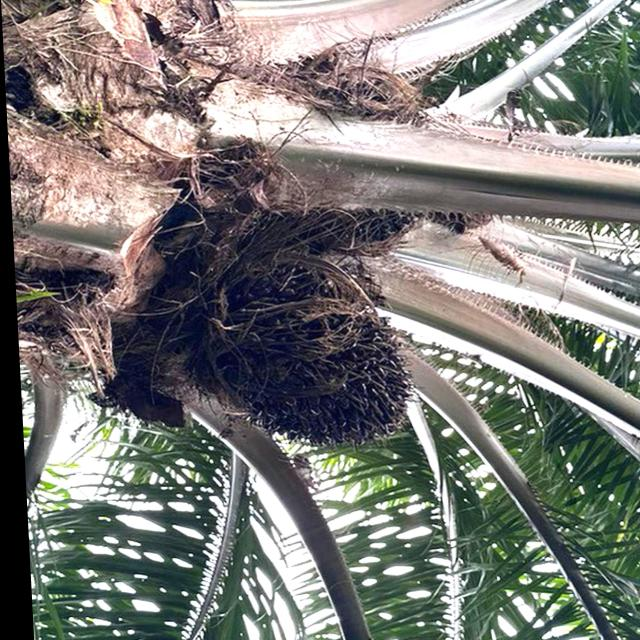ripe: (200, 266, 413, 452)
